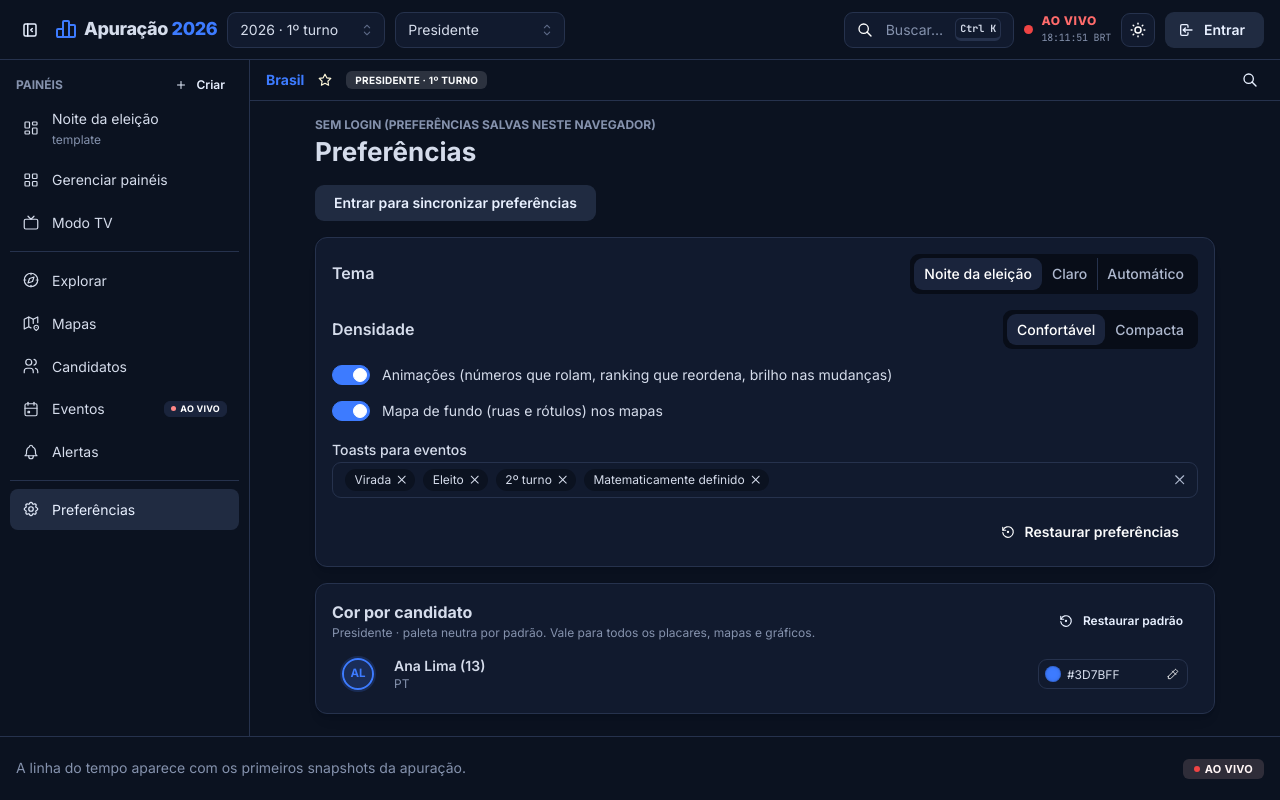
Test case: sign-in modal › checks the e-mail before sending anything
The image size is (1280, 800).
Click the button "Entrar para sincronizar preferências" at (455, 203), box [315,185,596,221]
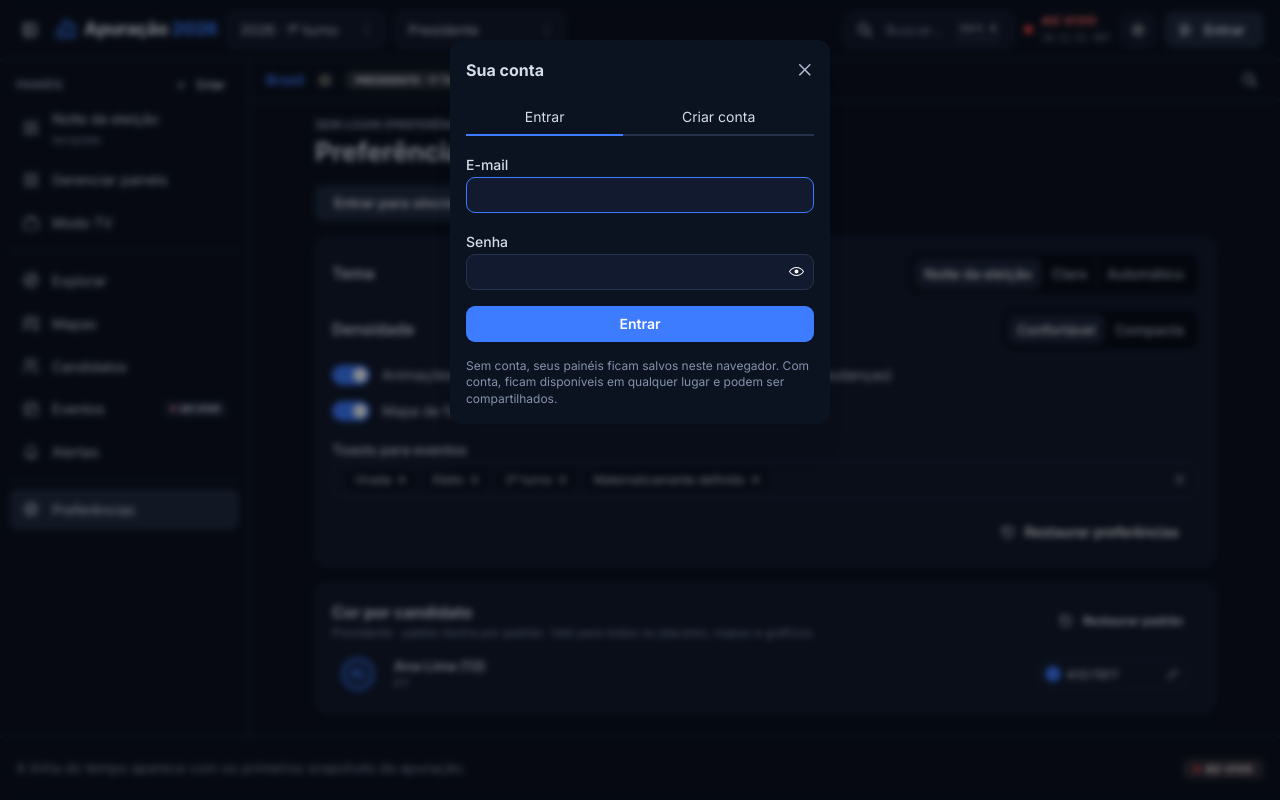
Type "ana@dominio" into the field labelled "E-mail" at (640, 195), box [466,177,814,213]
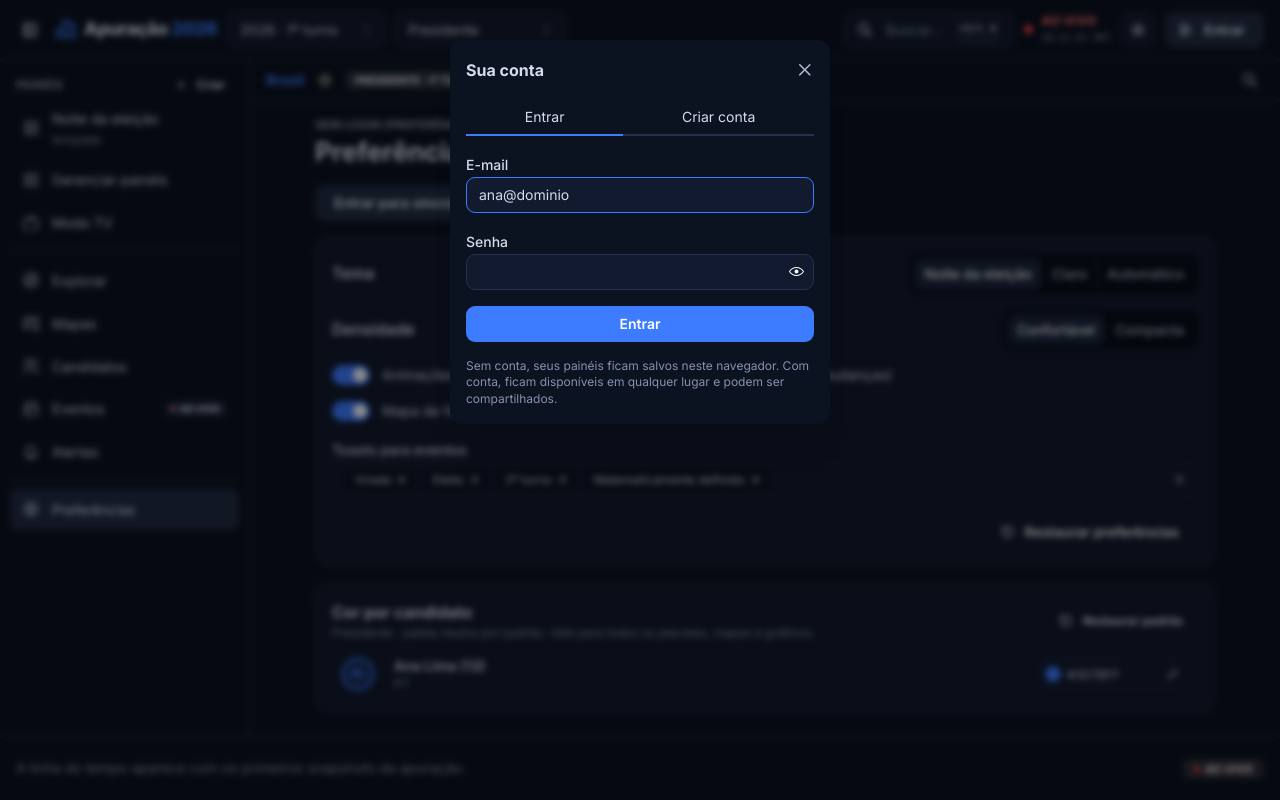
Type "123456" into the password field labelled "Senha" at (640, 272), box [467,255,813,289]
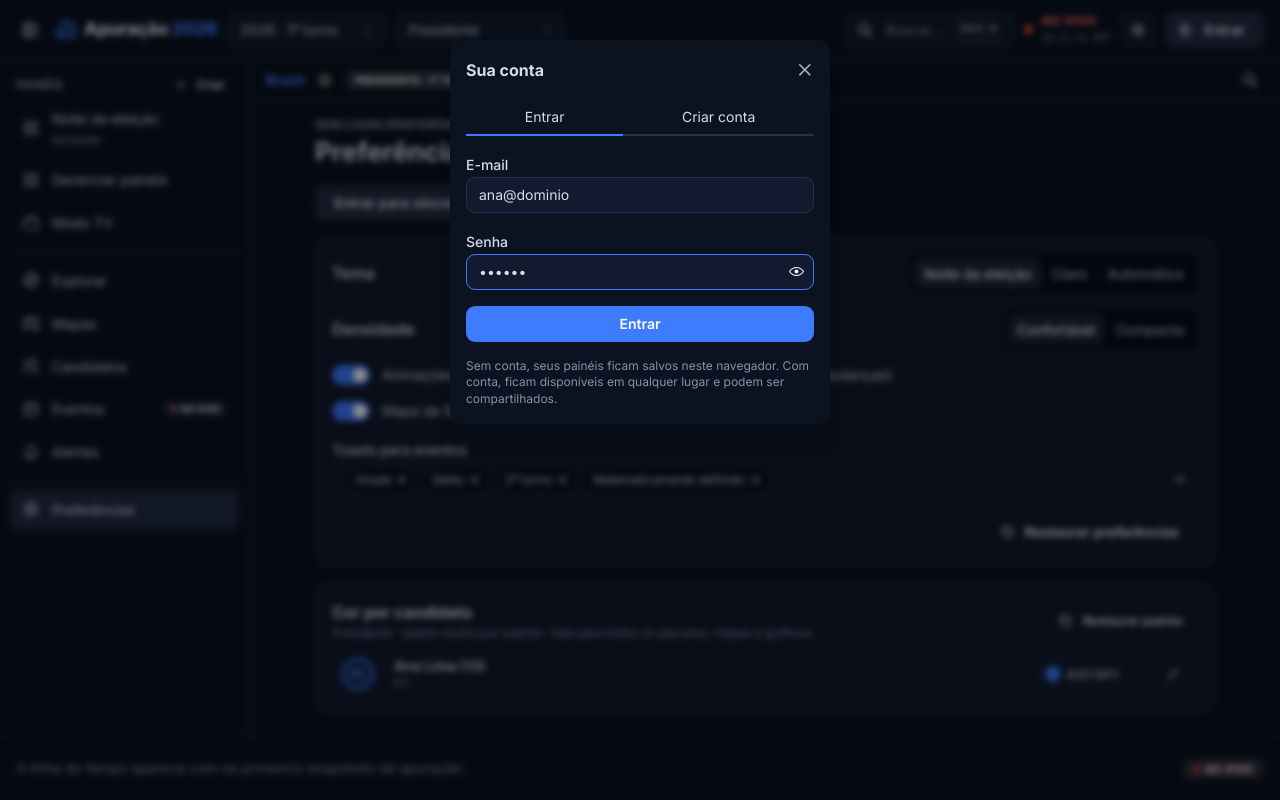
Click the button "Entrar" at (640, 324), box [466,306,814,342]
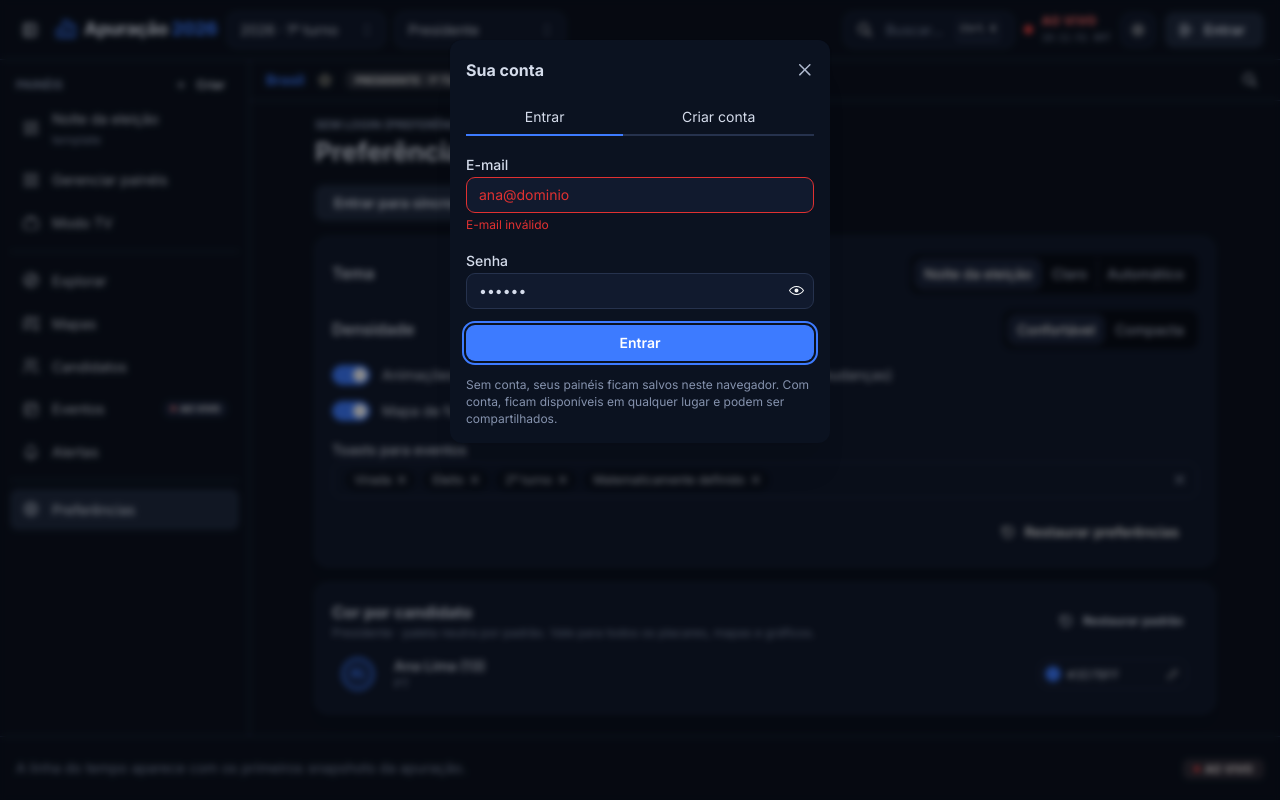
expect the text "E-mail inválido" is shown: met, box [466,217,549,232]
